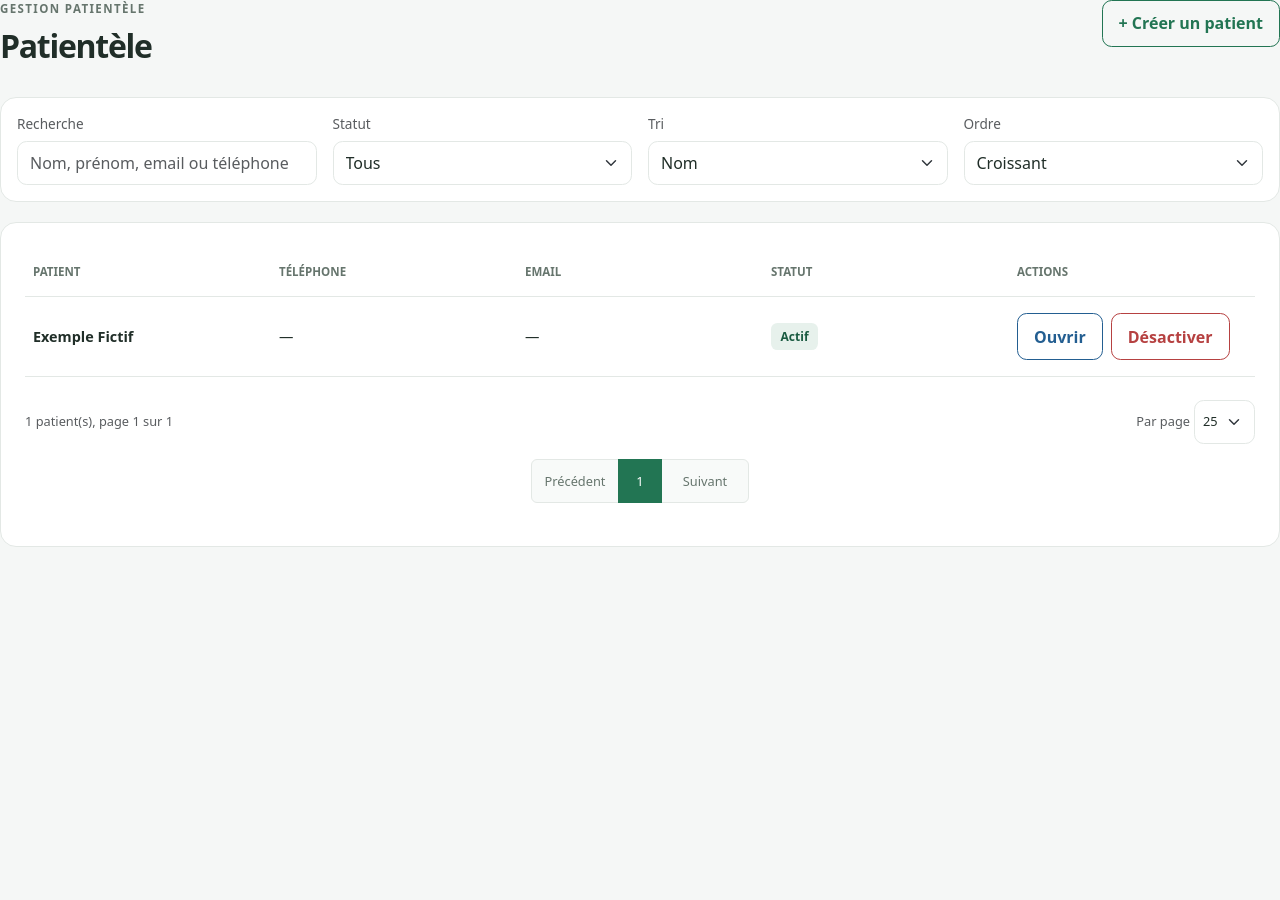
Test: annulation : aucun appel de mutation
Click the button with aria-label "Désactiver Exemple Fictif" at coordinates (1170, 337), box x1=1111 y1=313 x2=1230 y2=360
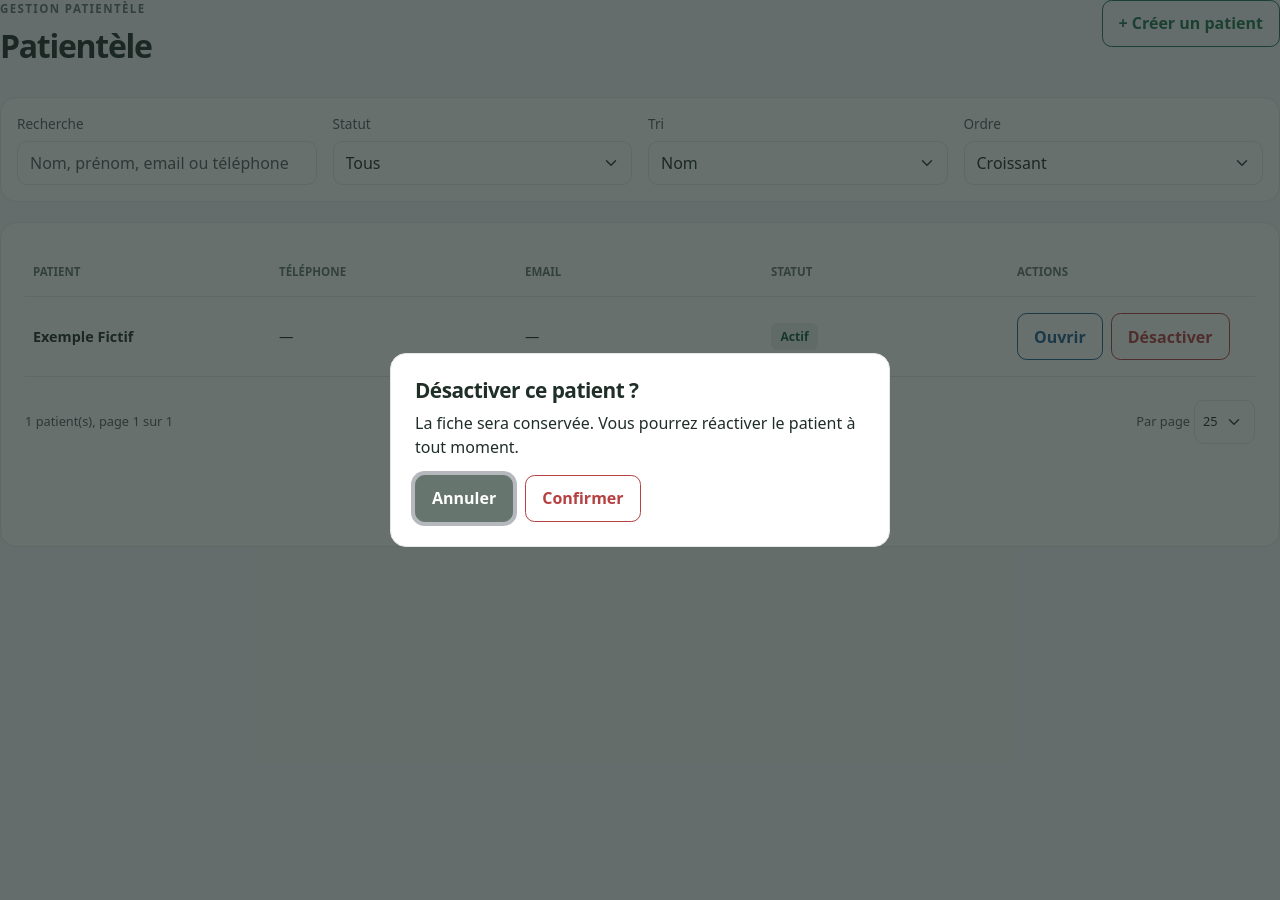
Click the button "Annuler" at coordinates (464, 498), box x1=415 y1=475 x2=513 y2=522
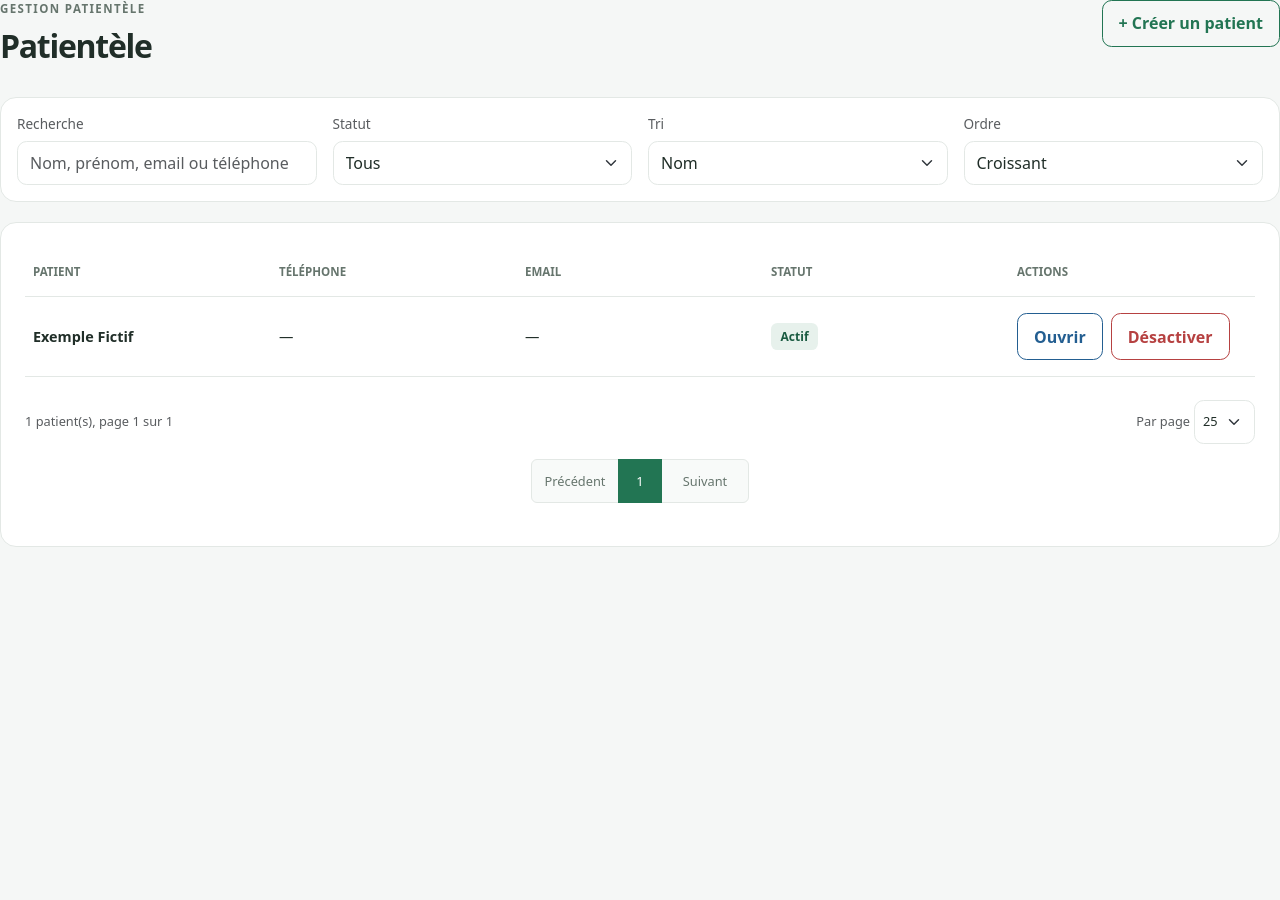
Expected: the dialog is gone
